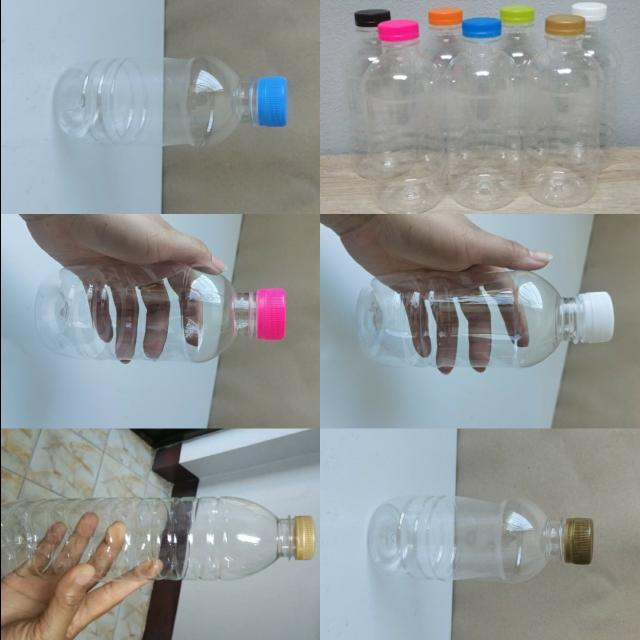plastik: (0, 497, 314, 581), (357, 271, 613, 372), (34, 265, 285, 363), (53, 56, 287, 147), (369, 496, 593, 583), (360, 20, 445, 213), (520, 15, 603, 207), (443, 17, 520, 211)
